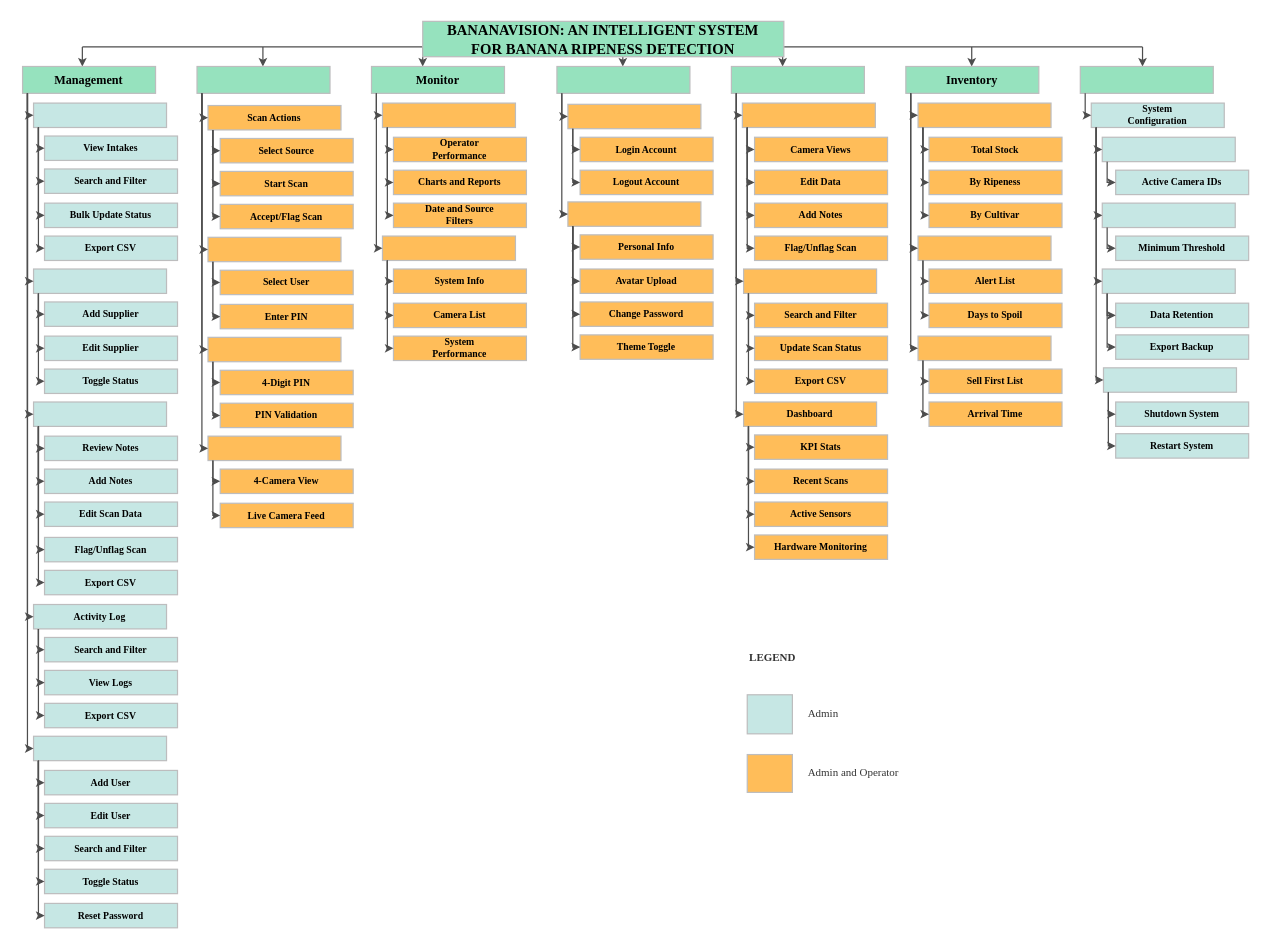
The diagram is 1270 pixels wide and 949 high, and some of its shapes have lost their labels. Here are the shapes that lost their labels. From the top down, the box of each, then its label:
(196, 65, 330, 93): Kiosk Mode
(556, 65, 690, 93): Process
(730, 65, 864, 93): Scanning
(1079, 65, 1213, 93): System
(32, 102, 167, 127): Intake Management
(381, 102, 515, 127): Analytics
(567, 103, 701, 129): Account Access
(741, 102, 875, 127): Scan Detail
(917, 102, 1051, 127): Stock Overview
(1101, 136, 1235, 162): Scanner Config
(567, 201, 701, 226): Profile
(1101, 202, 1235, 228): AI Settings
(207, 236, 341, 262): Switch User
(381, 235, 515, 260): Device Status
(917, 235, 1051, 260): Spoilage Alerts
(32, 268, 167, 293): Supplier Management
(742, 268, 877, 293): Scan Logs
(1101, 268, 1235, 293): Data Storage
(207, 336, 341, 362): PIN Auth
(917, 335, 1051, 361): FIFO Recos
(1102, 367, 1236, 392): System Power
(32, 401, 167, 426): Quality Control
(207, 435, 341, 461): Camera Grid
(32, 735, 167, 761): User Management
